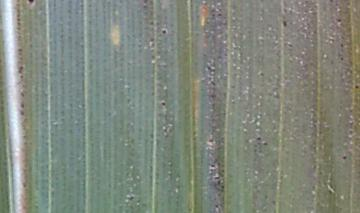tarspot: (204, 135, 216, 148), (15, 64, 25, 76), (256, 67, 266, 79), (125, 194, 136, 203), (281, 18, 288, 30), (254, 135, 263, 144), (17, 109, 26, 118), (341, 153, 349, 163), (160, 26, 167, 36), (212, 202, 220, 210), (353, 83, 360, 92), (334, 17, 343, 24), (160, 100, 167, 108), (26, 1, 36, 6), (210, 162, 217, 169), (263, 141, 269, 148)
